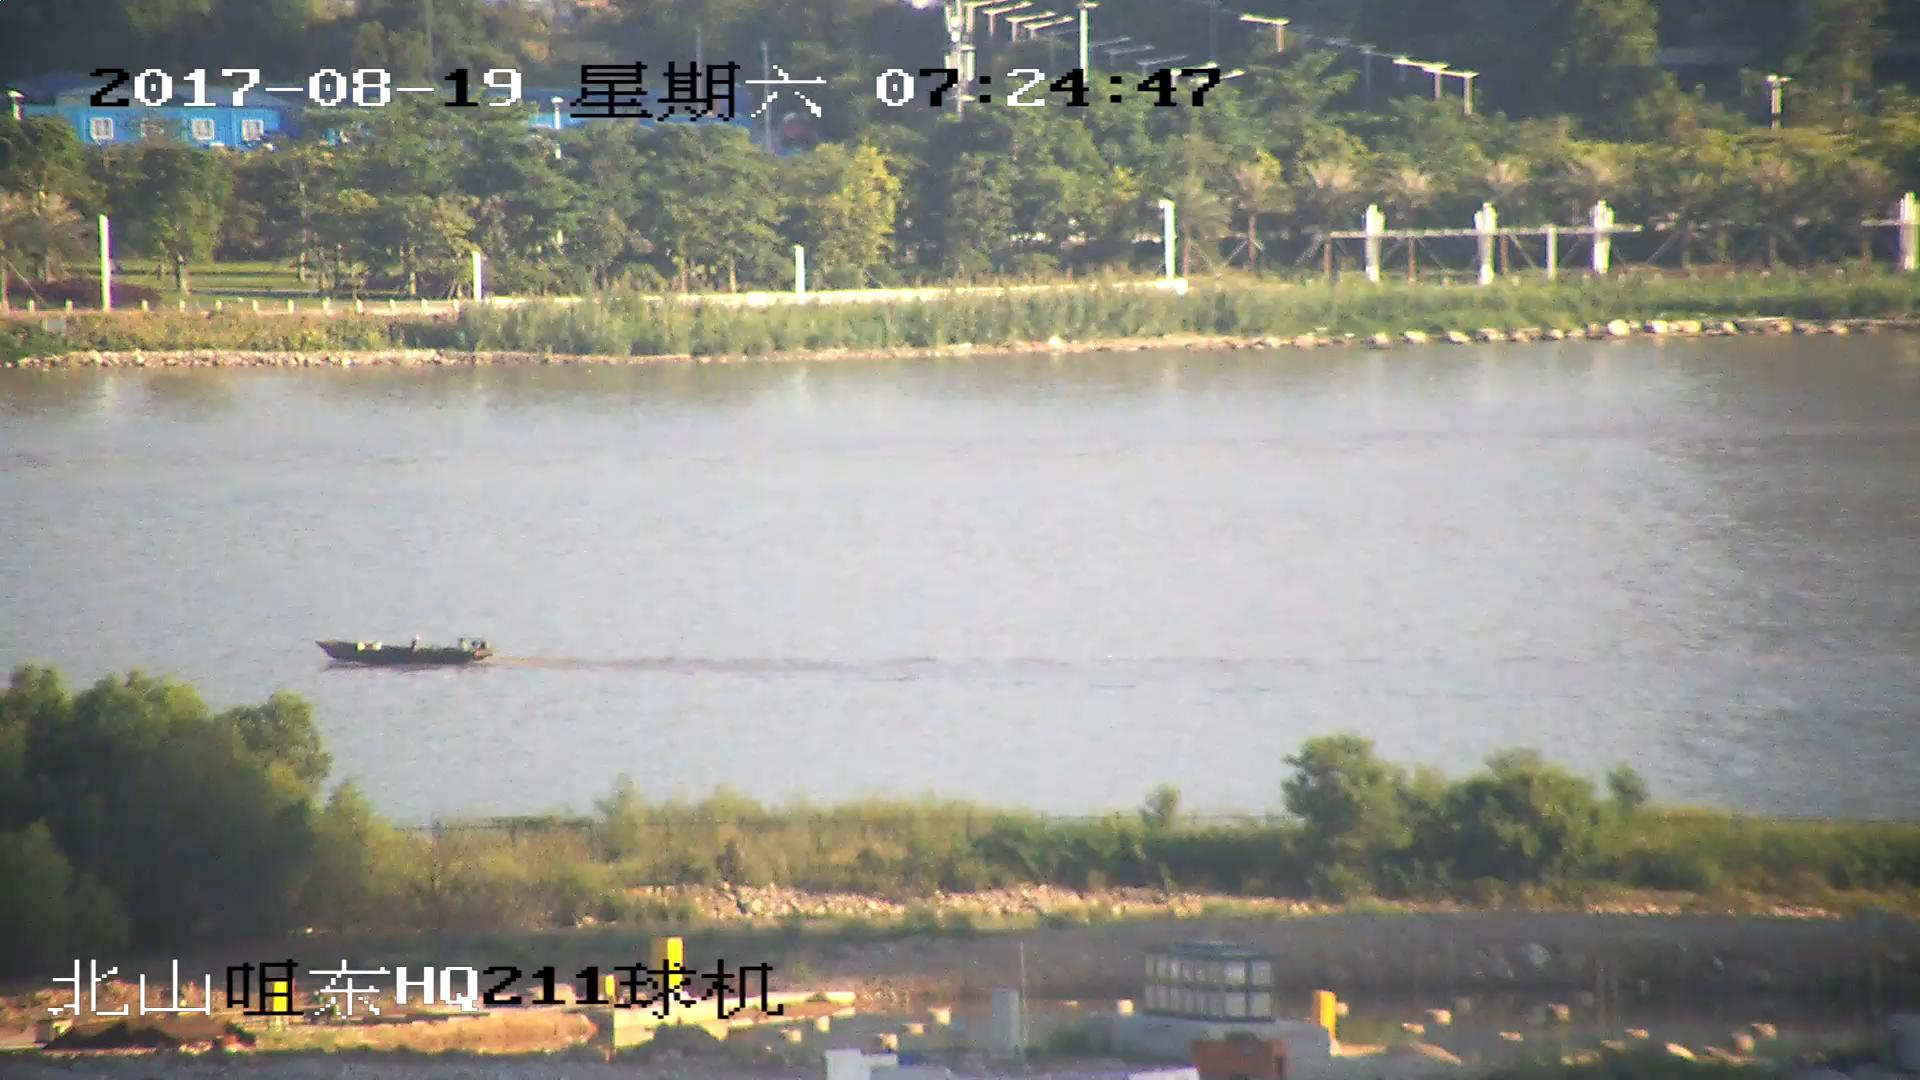fishing boat: (319, 635, 487, 667)
